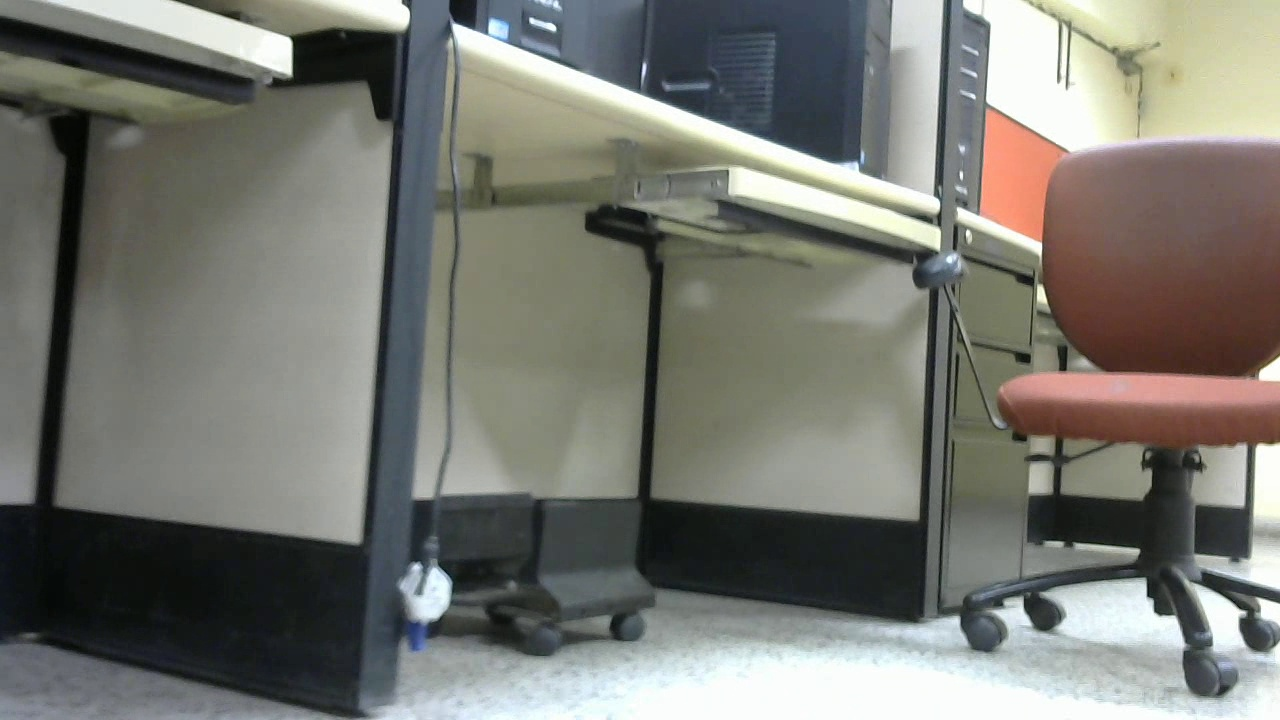chair: (607, 4, 1221, 720), (29, 208, 289, 525)
